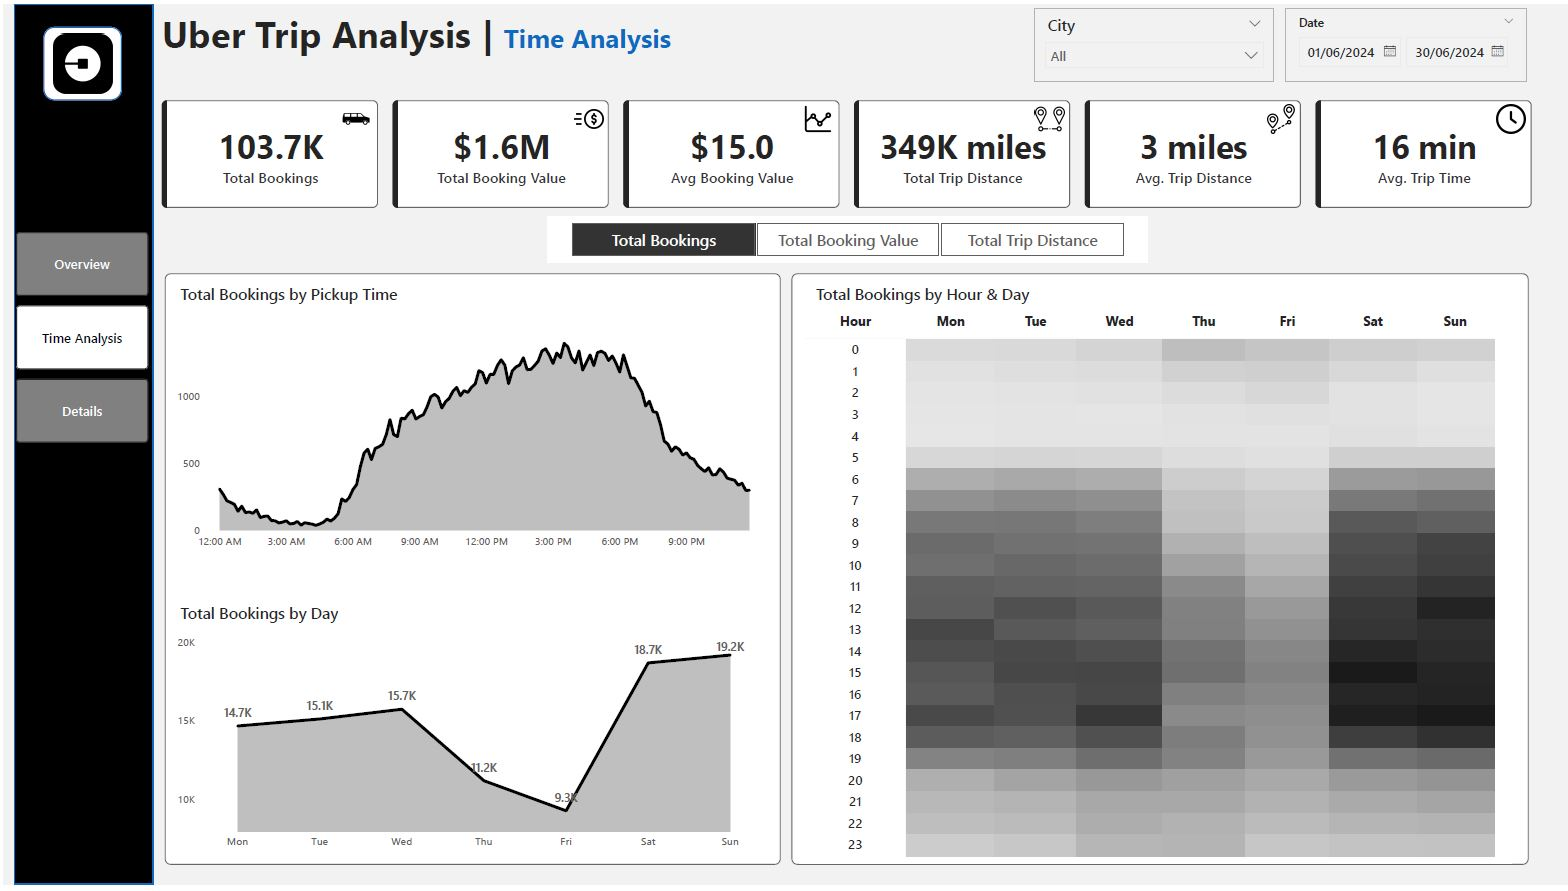

What the dashboard file says about the page in this screenshot:
{"tool":"powerbi","page":{"name":"Time Analysis","canvas":[1600,900],"ordinal":1},"visuals":[{"type":"shape","box":[10.7,0,142,899.6],"z":0},{"type":"textbox","box":[156.8,0,589.6,63.3],"z":1000},{"type":"cardVisual","fields":{"Data":["Trip Details.Total Bookings","Trip Details.Total Booking Value","Trip Details.Average Booking Amount","Trip Details.Total Trip Distance","Trip Details.Avg. Trip Distance","Trip Details.Avg. Trip Time"]},"box":[156.8,93,1415,120],"z":2000},{"type":"image","box":[578.9,97.4,40,40],"z":3000},{"type":"image","box":[1049.6,97.4,40,40],"z":4000},{"type":"image","box":[1287.7,97.4,40,40],"z":5000},{"type":"image","box":[1522.1,97.4,40,40],"z":6000},{"type":"image","box":[813.4,97.4,40,40],"z":7000},{"type":"image","box":[340.9,97.4,40,40],"z":8000},{"type":"shape","box":[165,275,630,605],"z":9000},{"type":"slicer","fields":{"Values":["Dynamic Measure.Dynamic Measure"]},"box":[555.5,216.7,614.6,47.3],"z":10000},{"type":"slicer","fields":{"Values":["Calendar Table.Date"]},"box":[1311,4,246.7,74.8],"z":11000},{"type":"slicer","fields":{"Values":["Location Table.City"]},"box":[1053.6,4,246.7,74.8],"z":12000},{"type":"areaChart","fields":{"Y":["Trip Details.Total Bookings"],"Category":["Trip Details.Pickup Hour (HH MM SS) (bins)"]},"box":[173.1,331.8,615,234.4],"z":13000},{"type":"cardVisual","fields":{"Data":["Trip Details.Title for Pickup Time"]},"box":[163.5,260,301.4,61.1],"z":14000},{"type":"areaChart","fields":{"Y":["Trip Details.Total Bookings"],"Category":["Calendar Table.Day Name"]},"box":[173.4,638.3,608.7,234.4],"z":15000},{"type":"cardVisual","fields":{"Data":["Trip Details.Title for Bookings by Day Name"]},"box":[163.5,587.1,267.9,61.1],"z":16000},{"type":"shape","box":[805.7,275,754.5,605],"z":17000},{"type":"pivotTable","fields":{"Values":["Trip Details.Total Bookings"],"Rows":["Trip Details.Pickup Hour"],"Columns":["Calendar Table.Day Name"]},"box":[814.1,309.4,728,569.2],"z":18000},{"type":"cardVisual","fields":{"Data":["Trip Details.Title for Hour & Day"]},"box":[813.6,260,301.4,61.1],"z":20000},{"type":"group","id":"g1","title":"Group 1","box":[41.4,23.2,80,75],"z":21000},{"type":"pageNavigator","box":[13.2,233.3,135,215.1],"z":21001},{"type":"shape","box":[41.4,23.2,80,75],"z":33000,"group":"g1"},{"type":"image","box":[43.1,24.9,77.8,71.1],"z":34000,"group":"g1"}]}

Visuals, with their boxes on the page's 1600x900 design canvas (x1, y1, x2, y2). These are canvas units, not pixel positions in the 1568x891 screenshot, which may show the page scaled, cropped or inside an application window:
shape: select_region(11, 0, 153, 900)
textbox: select_region(157, 0, 746, 63)
cardVisual - Trip Details.Total Bookings x Trip Details.Total Booking Value: select_region(157, 93, 1572, 213)
image: select_region(579, 97, 619, 137)
image: select_region(1050, 97, 1090, 137)
image: select_region(1288, 97, 1328, 137)
image: select_region(1522, 97, 1562, 137)
image: select_region(813, 97, 853, 137)
image: select_region(341, 97, 381, 137)
shape: select_region(165, 275, 795, 880)
slicer - Dynamic Measure.Dynamic Measure: select_region(556, 217, 1170, 264)
slicer - Calendar Table.Date: select_region(1311, 4, 1558, 79)
slicer - Location Table.City: select_region(1054, 4, 1300, 79)
areaChart - Trip Details.Total Bookings x Trip Details.Pickup Hour (HH MM SS) (bins): select_region(173, 332, 788, 566)
cardVisual - Trip Details.Title for Pickup Time: select_region(164, 260, 465, 321)
areaChart - Trip Details.Total Bookings x Calendar Table.Day Name: select_region(173, 638, 782, 873)
cardVisual - Trip Details.Title for Bookings by Day Name: select_region(164, 587, 431, 648)
shape: select_region(806, 275, 1560, 880)
pivotTable - Trip Details.Total Bookings x Trip Details.Pickup Hour: select_region(814, 309, 1542, 879)
cardVisual - Trip Details.Title for Hour & Day: select_region(814, 260, 1115, 321)
"Group 1" group: select_region(41, 23, 121, 98)
pageNavigator: select_region(13, 233, 148, 448)
shape: select_region(41, 23, 121, 98)
image: select_region(43, 25, 121, 96)
